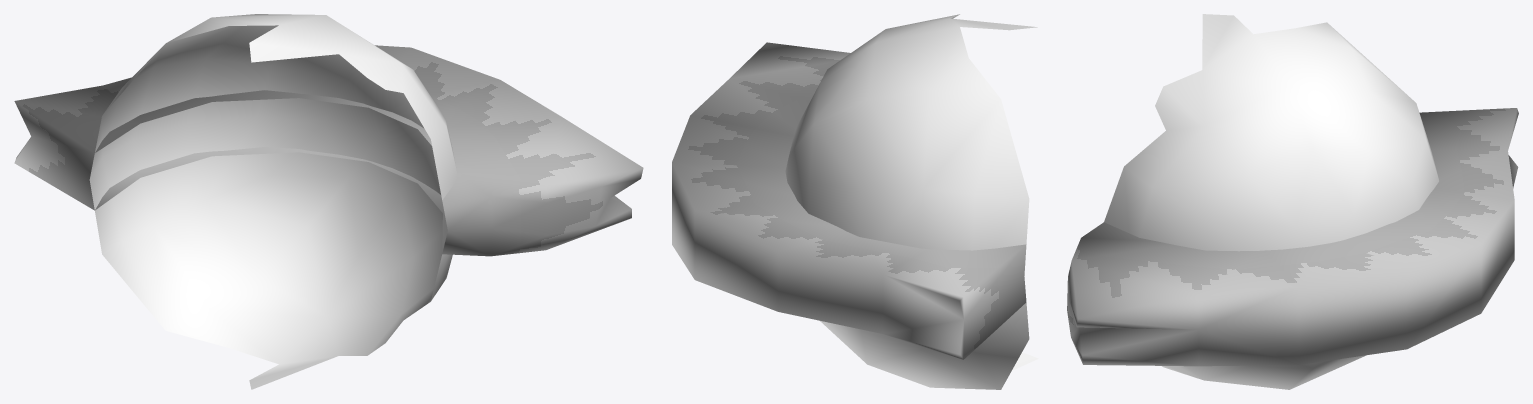
Rendered from hlmt_wig_mohawk.dae.
The picture shows the model from 3 angles, left to right: view 1: azimuth 30°, elevation 25°; view 2: azimuth 150°, elevation 25°; view 3: azimuth 270°, elevation 25°; orthographic projection.
Visible parts, largest first — view 1: hlmt_wig_mohawk; view 2: hlmt_wig_mohawk; view 3: hlmt_wig_mohawk.
Part boxes in pixels (bbox=[...]): hlmt_wig_mohawk: bbox=[14, 14, 643, 389]; hlmt_wig_mohawk: bbox=[672, 14, 1038, 389]; hlmt_wig_mohawk: bbox=[1067, 14, 1518, 389].
Bounding box in the file's own units: 27.72 × 21.8 × 26.08.
Materials: 1 (1 with a texture image).
